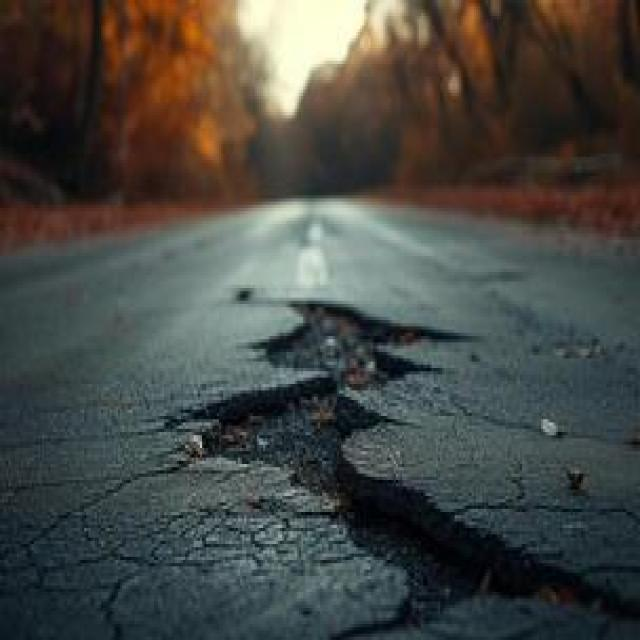road collapse: (103, 182, 640, 640)
